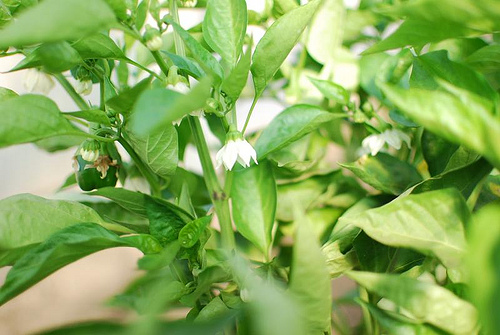capsicum: (74, 137, 119, 193)
